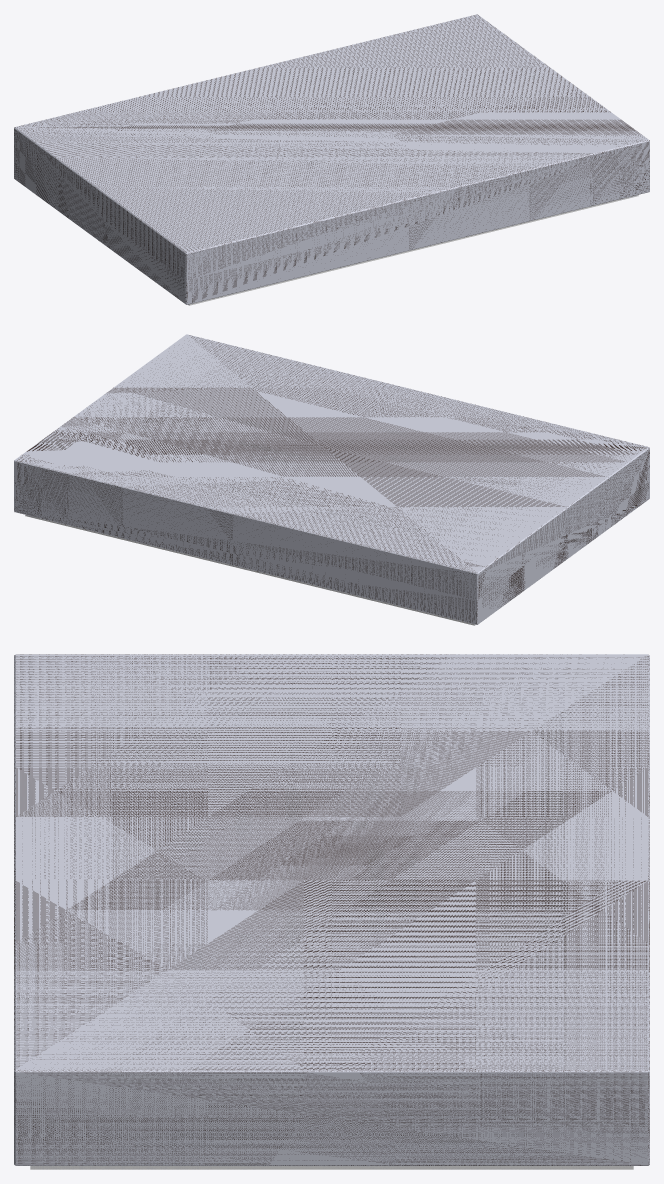
The model's file is shelf.dae.
The picture shows the model from 3 angles, top to bottom: view 1: azimuth 30°, elevation 25°; view 2: azimuth 150°, elevation 25°; view 3: azimuth 270°, elevation 25°; orthographic projection. The views are drawn at different scales.
Parts seen in each view (by area): view 1: SketchUp, group_0; view 2: SketchUp, group_0; view 3: SketchUp, group_0.
Boxes of the visible parts, x1,y1,x2,y2 form: SketchUp: [14, 14, 649, 304]; group_0: [188, 195, 638, 305]; SketchUp: [14, 334, 649, 624]; group_0: [25, 515, 475, 625]; SketchUp: [14, 654, 649, 1165]; group_0: [30, 1166, 633, 1169].
Bounding box in the file's own units: 0.93 × 0.5993 × 0.11.
Materials: 3 (1 with a texture image).
